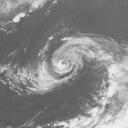cyclone: (39, 36, 97, 90)
